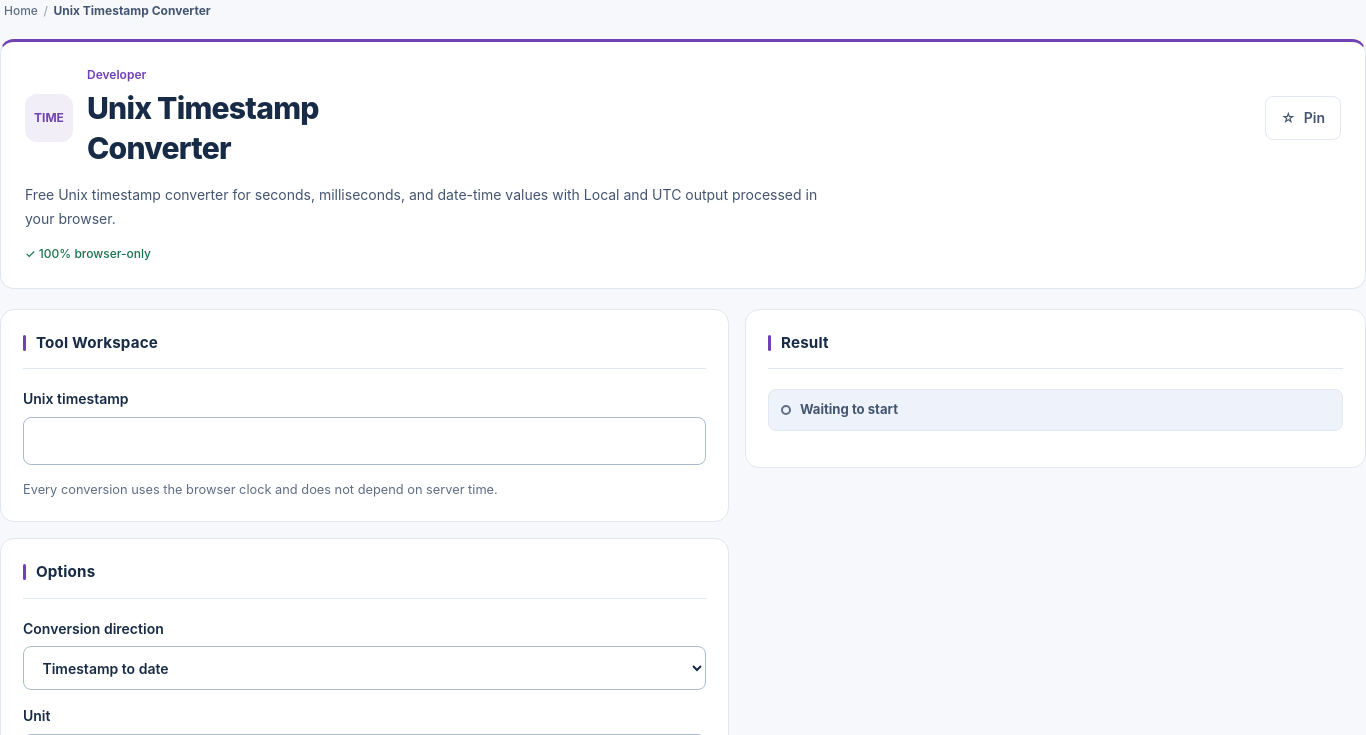
UnixTimestampPage › converts ten-digit seconds and shows UTC and ISO output
Type "1700000000" into the field labelled "Unix timestamp" at [364, 441], box [23, 417, 706, 464]
(page scrolled)
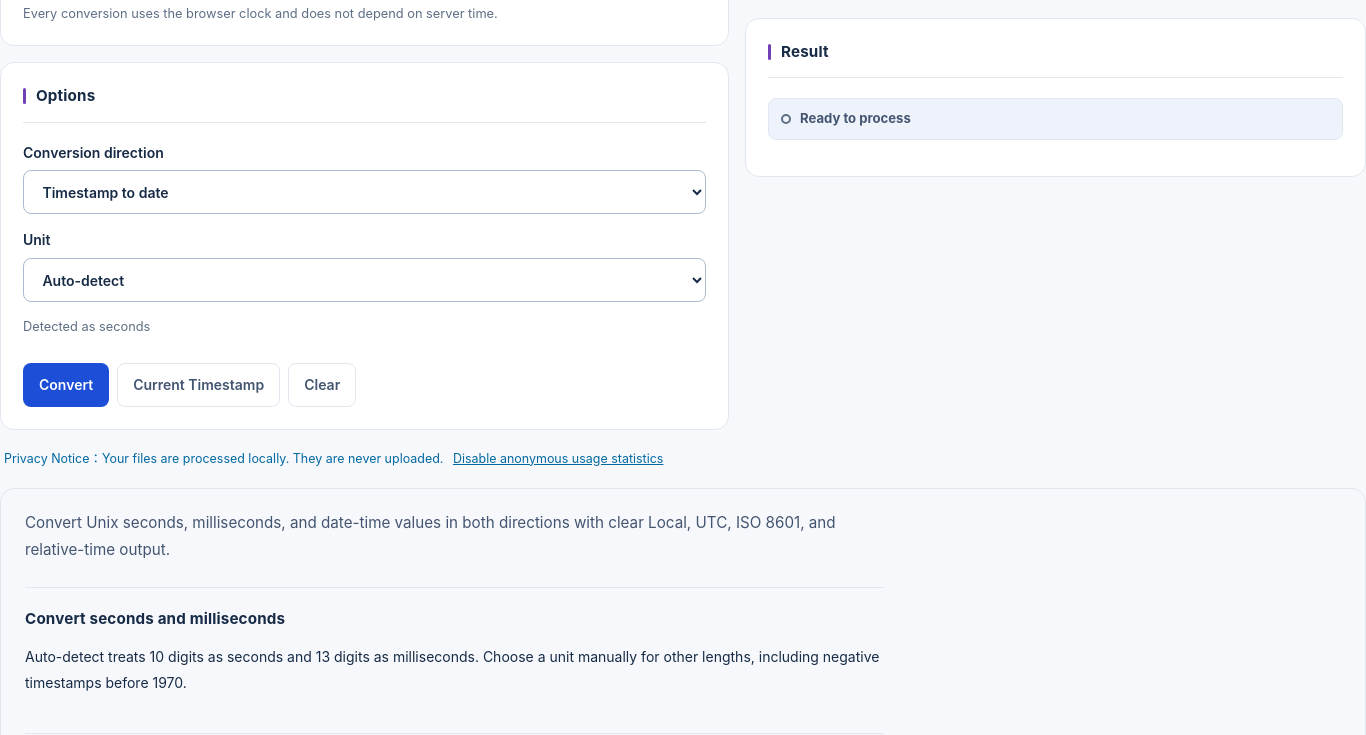
Click the button "Convert" at [66, 385], box [23, 363, 109, 407]
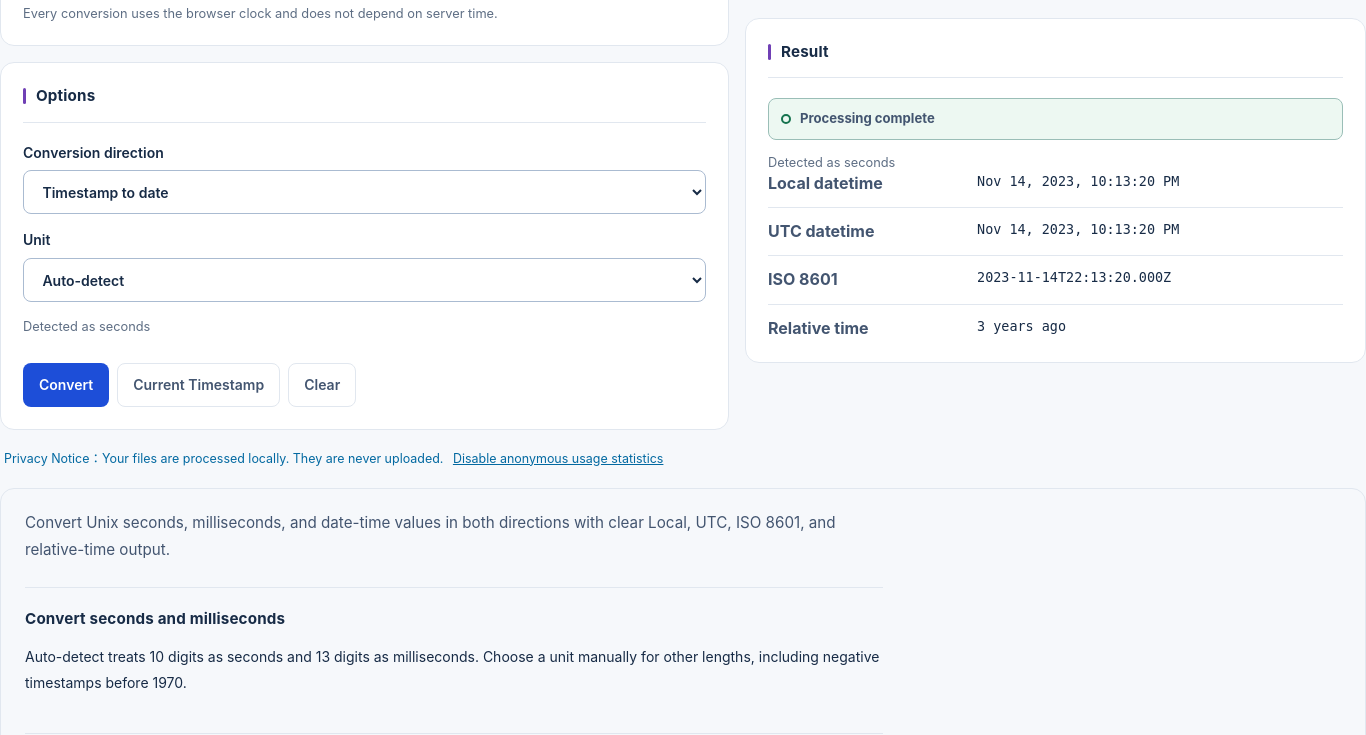
expect the text "Detected as seconds" is shown 2 times: met, box [23, 319, 150, 334]; [768, 155, 895, 170]
expect the text "UTC datetime" is shown: met, box [768, 222, 874, 242]
expect the text "2023-11-14T22:13:20.000Z" is shown: met, box [977, 271, 1171, 286]
